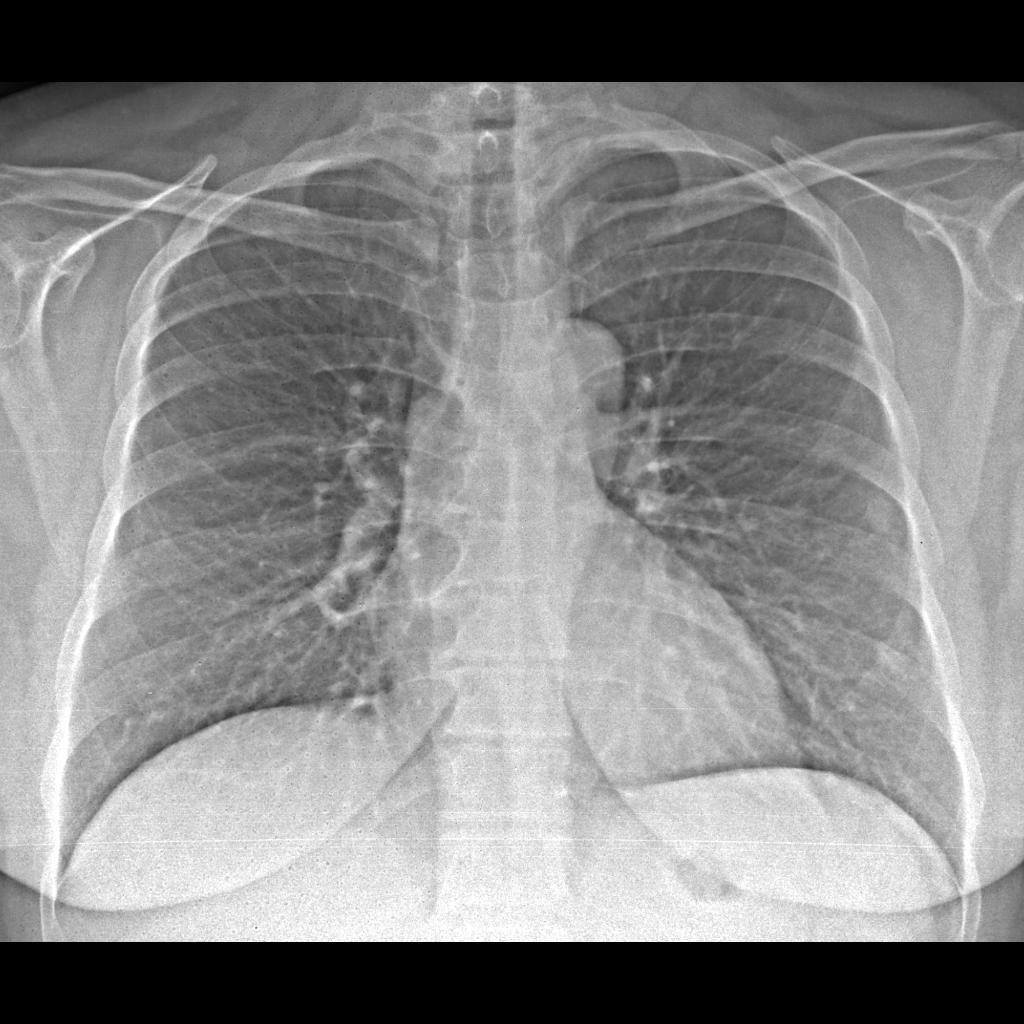Nodule: (848, 483, 909, 551)
